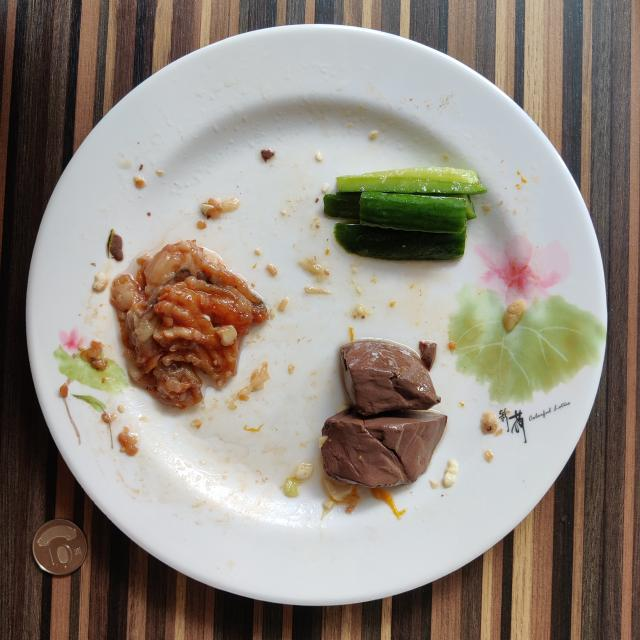Kabayaki sea bream fillet: (110, 240, 269, 409)
coin: (32, 519, 86, 575)
cucumber: (324, 168, 486, 260)
pig blood curd: (321, 339, 448, 488)
